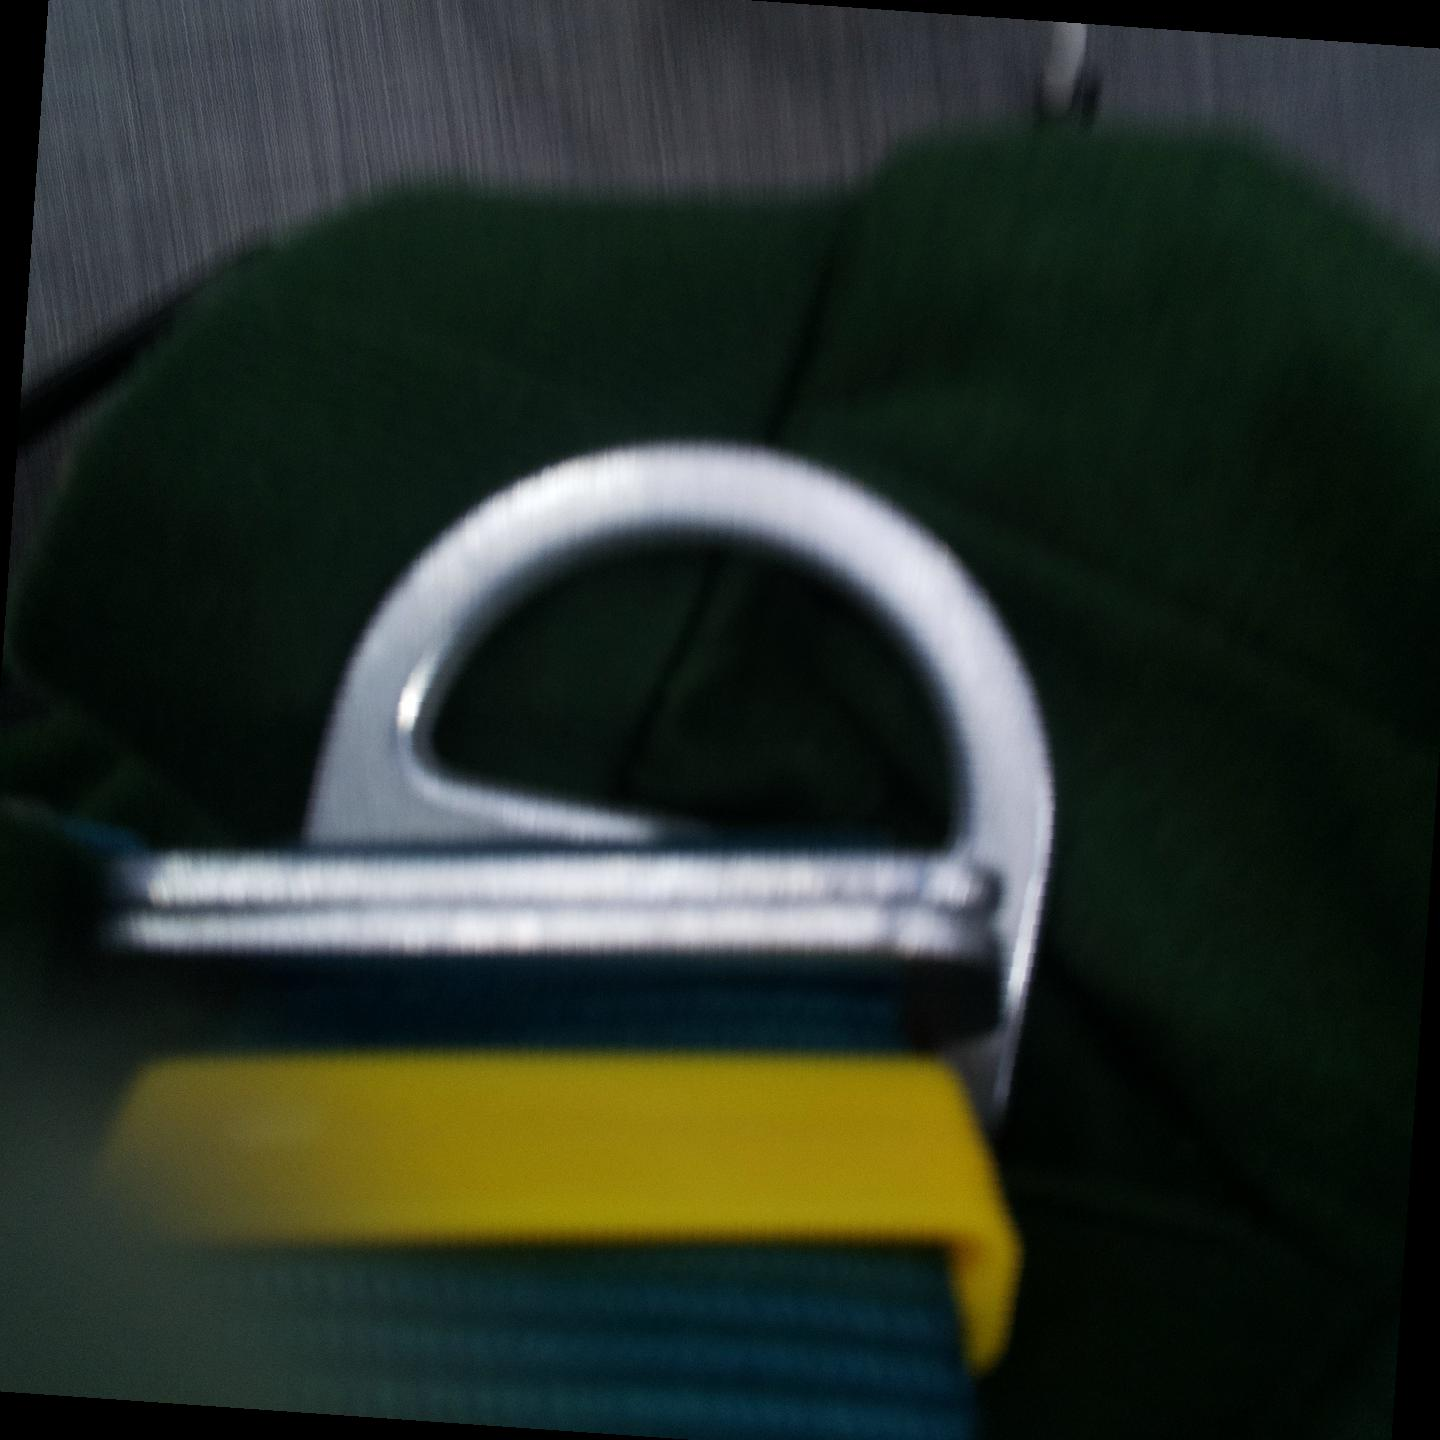UNSUCCESS: (295, 454, 1106, 866)
